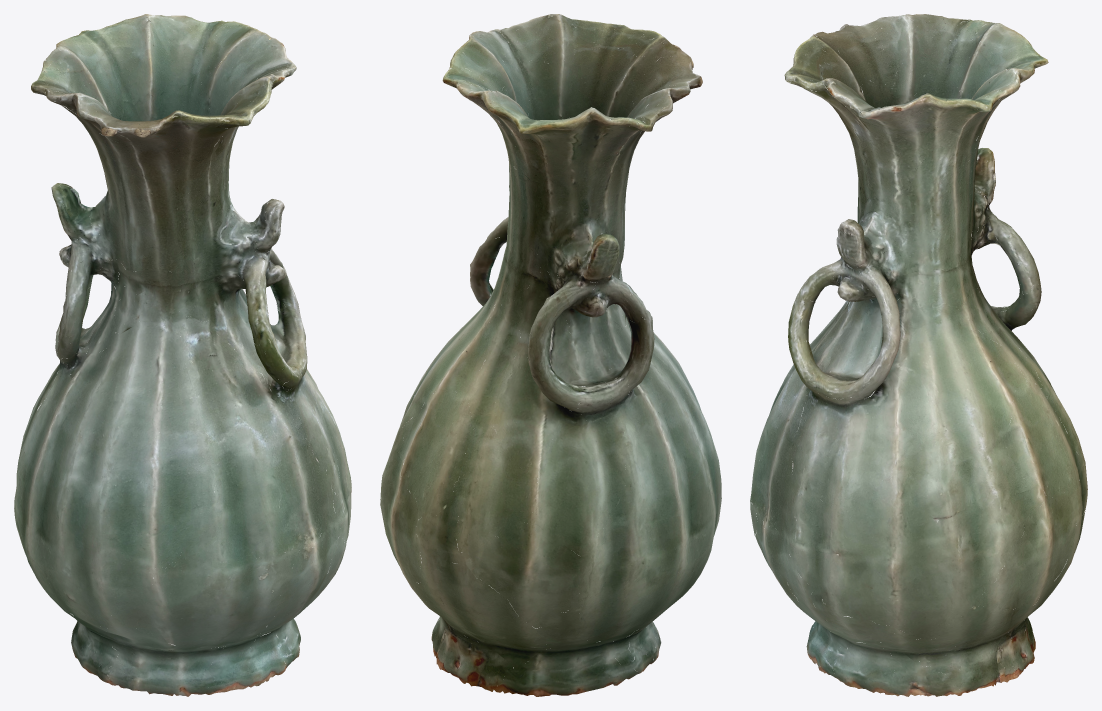
Rendered from comparison-2.glb.
3 renders of one model, left to right at view 1: azimuth 30°, elevation 25°; view 2: azimuth 150°, elevation 25°; view 3: azimuth 270°, elevation 25°, orthographic.
Parts seen in each view (by area): view 1: Object_4; view 2: Object_4; view 3: Object_4.
Boxes of the visible parts, <box> form: Object_4: <box>14,14,351,696</box>; Object_4: <box>380,14,721,696</box>; Object_4: <box>750,14,1087,696</box>.
Bounding box in the file's own units: 0.1298 × 0.2567 × 0.1329.
1 material, 1 textured.
